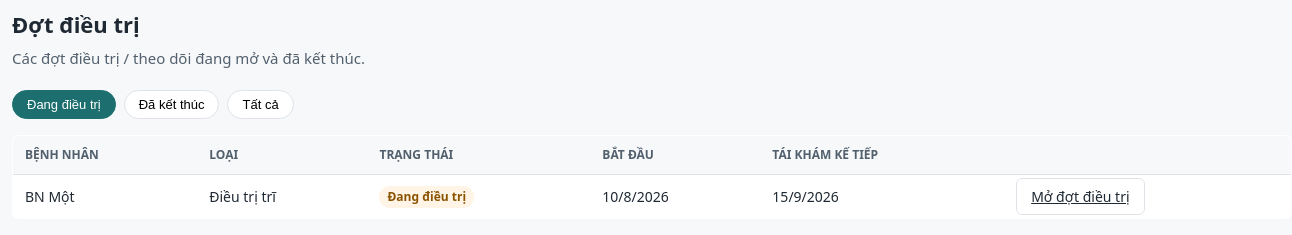
TreatmentCasesPage — Đợt điều trị › "Đã kết thúc" filter shows the closed case only
Expected: the row "BN Một" is shown, [12,174,1291,218]
Step 1. Click the tab "Đã kết thúc" → (172,104), box [124,90,220,118]
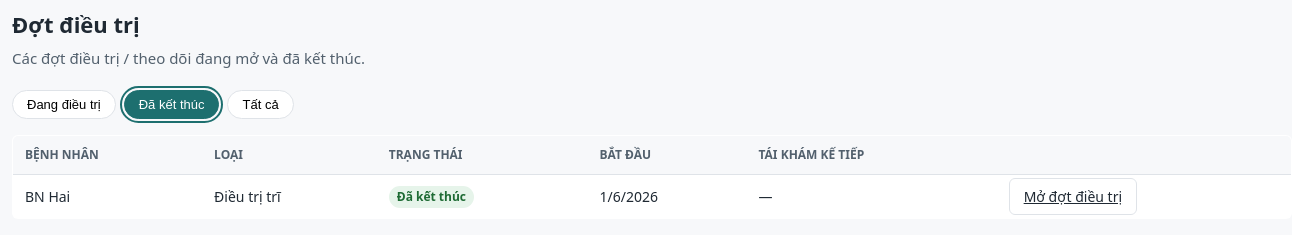
Expected: the row "BN Hai Điều trị trĩ Đã kết thúc 1/6/2026 — Mở đợt điều trị" is shown, [12,174,1291,218]
Expected: the cell "BN Một" is gone
